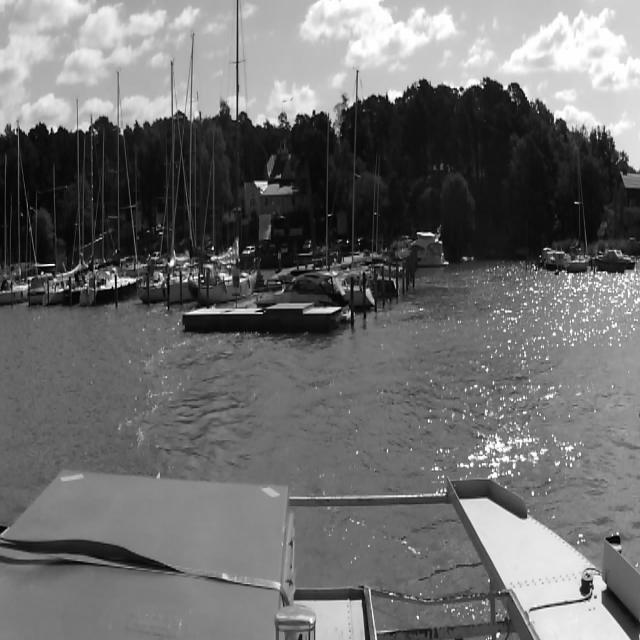ship: (191, 0, 255, 303), (336, 56, 404, 299), (78, 71, 134, 299), (144, 49, 188, 302), (1, 125, 29, 303), (34, 167, 70, 303), (554, 147, 592, 271), (255, 270, 344, 306), (388, 222, 452, 268)
